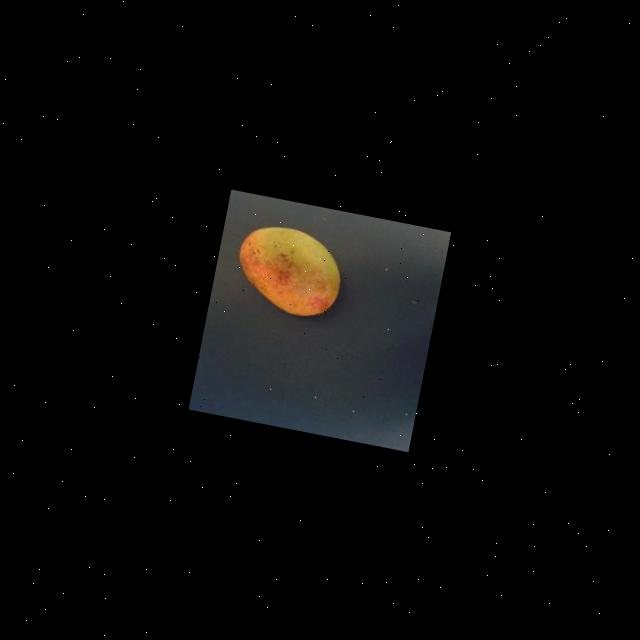Mango: (228, 218, 349, 322)
